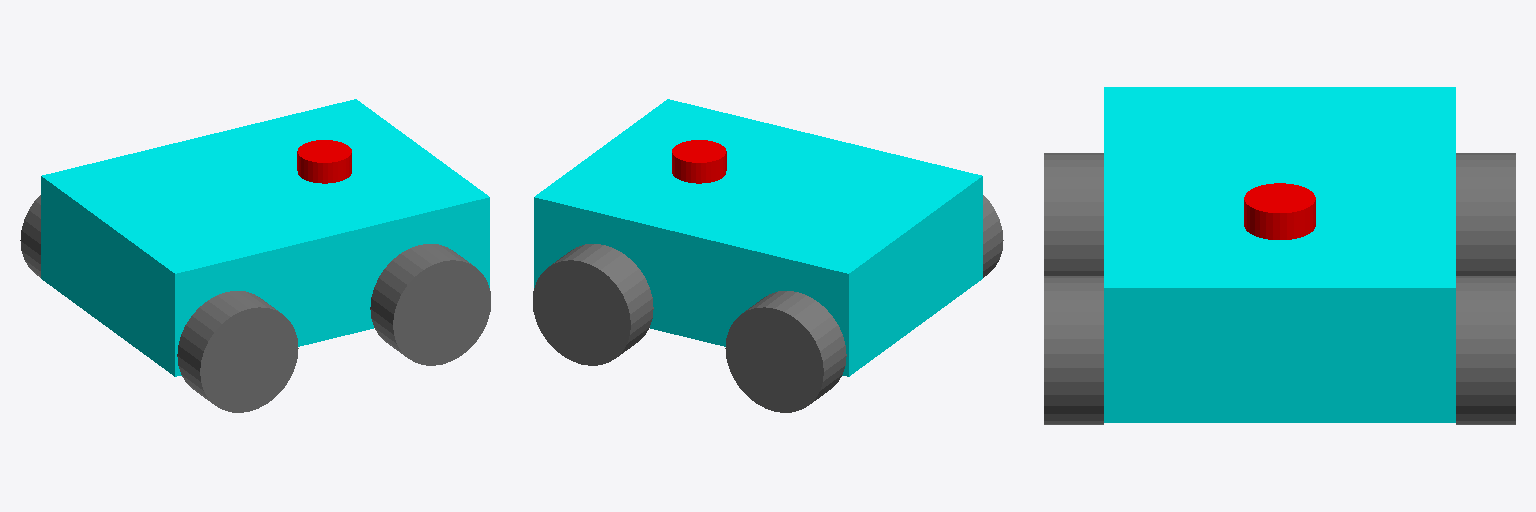
robot.urdf — RALLP_2:
<?xml version="1.0" ?>

<robot name="RALLP_2">

<!-- Robot base -->

  <link name="base_link">
    <visual>
      <origin xyz="0 0 0" rpy="0 0 0"/>
      <geometry>
        <box size="0.8 0.59 0.25"/>
      </geometry>
      <material name="Cyan">
        <color rgba="0 1.0 1.0 1.0"/>
      </material>
    </visual>
    <collision>
      <origin xyz="0 0 0" rpy="0 0 0"/>
      <geometry>
        <box size="0.8 0.59 0.25"/>
      </geometry>
    </collision>
    <inertial>
      <origin xyz="0.0 0.0 0.0" rpy="0 0 0"/>
      <mass value="45"/>
      <inertia ixx="1.53975" ixy="0" ixz="0" 
              iyy="2.634375" iyz="0" izz="3.705375"/>
    </inertial>
  </link>

  <link name="base_footprint"/>
  <joint name="base_joint" type="fixed">
    <parent link="base_link"/>
    <child link="base_footprint"/>
    <origin rpy="0 0 0" xyz="0.0 0.0 -0.200853"/>
  </joint>


  <!-- Front Right Wheel -->

  <link name="fr_link">
    <visual>
      <origin xyz="0 -0.05 0" rpy="-1.570796 0.0 0.0"/>
      <geometry>
        <cylinder length="0.1" radius="0.125"/>
      </geometry>
      <material name="Gray">
        <color rgba="0.5 0.5 0.5 1.0"/>
      </material>
    </visual>
    <collision>
      <origin xyz="0 -0.05 0" rpy="-1.570796 0.0 0.0"/>
      <geometry>
        <cylinder length="0.1" radius="0.125"/>
      </geometry>
    </collision>
    <inertial>
      <origin xyz="-0.0 -0.05 0.0" rpy="0 0 0"/>
      <mass value="1.5"/>
      <inertia ixx="0.0096875" ixy="0" ixz="0" 
              iyy="0.016875" iyz="0" izz="0.0096875"/>
    </inertial>
  </link>
  <joint name="fr_joint" type="continuous">
    <parent link="base_link"/>
    <child link="fr_link"/>
    <origin xyz="0.2205 -0.295 -0.074147" rpy="0.0 0.0 0.0"/>
    <axis xyz="0 1 0"/>
    <dynamics damping="0.0" friction="1000.0"/>
  </joint>


  <!-- Front Left Wheel -->

  <link name="fl_link">
    <visual>
      <origin xyz="0 0.05 0" rpy="1.570796327 0.0 0"/>
      <geometry>
        <cylinder length="0.1" radius="0.125"/>
      </geometry>
      <material name="Gray">
        <color rgba="0.5 0.5 0.5 1.0"/>
      </material>
    </visual>
    <collision>
      <origin xyz="0 0.05 0" rpy="1.570796327 0.0 0.0"/>
      <geometry>
        <cylinder length="0.1" radius="0.125"/>
      </geometry>
    </collision>
    <inertial>
      <origin xyz="-0.0 0.05 0.0" rpy="0 0 0"/>
      <mass value="1.5"/>
      <inertia ixx="0.0096875" ixy="0" ixz="0" 
              iyy="0.016875" iyz="0" izz="0.0096875"/>
    </inertial>
  </link>
  <joint name="fl_joint" type="continuous">
    <parent link="base_link"/>
    <child link="fl_link"/>
    <origin xyz="0.2205 0.295 -0.074147" rpy="0 0.0 0.0"/>
    <axis xyz="0 1 0"/>
    <dynamics damping="0.0" friction="1000.0"/>
  </joint>


  <!-- Rear Left Wheel -->

  <link name="drivewhl_rl_link">
    <visual>
      <origin xyz="0 0.05 0" rpy="1.570796327 -0.0 -0.0"/>
      <geometry>
        <cylinder length="0.1" radius="0.125"/>
      </geometry>
      <material name="Gray">
        <color rgba="0.5 0.5 0.5 1.0"/>
      </material>
    </visual>
    <collision>
      <origin xyz="0 0.05 0" rpy="1.570796327 0 0"/>
      <geometry>
        <cylinder length="0.1" radius="0.125"/>
      </geometry>
    </collision>
    <inertial>
      <origin xyz="0 0.05 0" rpy="0 0 0"/>
      <mass value="1.5"/>
      <inertia ixx="0.0096875" ixy="0" ixz="0" 
              iyy="0.016875" iyz="0" izz="0.0096875"/>
    </inertial>
  </link>
  <joint name="rl_joint" type="continuous">
    <parent link="base_link"/>
    <child link="drivewhl_rl_link"/>
    <origin xyz="-0.2695 0.295 -0.074147" rpy="0 0.0 0.0"/>
    <axis xyz="0 1 0"/>
    <dynamics damping="0.0" friction="1000.0"/>
  </joint>


  <!-- Rear Right Wheel -->

  <link name="rr_link">
    <visual>
      <origin xyz="0 -0.05 0" rpy="-1.570796327 0.0 0.0"/>
      <geometry>
        <cylinder length="0.1" radius="0.125"/>
      </geometry>
      <material name="Gray">
        <color rgba="0.5 0.5 0.5 1.0"/>
      </material>
    </visual>
    <collision>
      <origin xyz="0 -0.05 0" rpy="-1.570796327 0.0 0.0"/>
      <geometry>
        <cylinder length="0.1" radius="0.125"/>
      </geometry>
    </collision>
    <inertial>
      <origin xyz="-0.0 -0.05 0.0" rpy="0 0 0"/>
      <mass value="1.5"/>
      <inertia ixx="0.0096875" ixy="0" ixz="0" 
              iyy="0.016875" iyz="0" izz="0.0096875"/>
    </inertial>
  </link>
  <joint name="rr_joint" type="continuous">
    <parent link="base_link"/>
    <child link="rr_link"/>
    <origin xyz="-0.2695 -0.295 -0.074147" rpy="6.283182245 0 0"/>
    <axis xyz="0 1 0"/>
    <dynamics damping="0.0" friction="1000.0"/>
  </joint>


  <!-- Lidar_link -->

  <link name="lidar_link">
    <visual>
      <geometry>
        <cylinder length="0.05" radius="0.06"/>
      </geometry>
      <material name="Red">
        <color rgba="1.0 0.0 0.0 1"/>
      </material>
    </visual>
    <collision>
      <geometry>
        <cylinder length="0.05" radius="0.06"/>
      </geometry>
    </collision>
  </link>
  <joint name="lidar_joint" type="fixed">
    <parent link="base_link"/>
    <child link="lidar_link"/>
    <origin rpy="0 0 0" xyz="0.15 0 0.15"/>
  </joint>


  <!-- Gazebo plugin -->

  <gazebo>
    <plugin filename="gz-sim-diff-drive-system" name="gz::sim::systems::DiffDrive">
      <left_joint>fl_joint</left_joint>
      <left_joint>rl_joint</left_joint>
      <right_joint>fr_joint</right_joint>
      <right_joint>rr_joint</right_joint>
      <robotBaseFrame>base_link</robotBaseFrame>
      <wheel_separation>0.6</wheel_separation>
      <wheel_radius>0.125</wheel_radius>
      <odom_topic>odom</odom_topic>
      <frame_id>odom</frame_id>
      <child_frame_id>base_link</child_frame_id>
      <odom_publisher_frequency>100</odom_publisher_frequency>
      <tf_topic>/tf</tf_topic>
      <topic>cmd_vel</topic>
    </plugin>


    <!-- Forward command -->
    

    <plugin filename="gz-sim-triggered-publisher-system" name="gz::sim::systems::TriggeredPublisher">
      <input type="gz.msgs.Int32" topic="/keyboard/keypress">
        <match field="data">87</match>
      </input>
      <output type="gz.msgs.Twist" topic="/cmd_vel">
        linear: {x: 1}, angular: {z: 0.0}
      </output>
    </plugin>


    <!-- Backward command -->

    <plugin filename="gz-sim-triggered-publisher-system" name="gz::sim::systems::TriggeredPublisher">
      <input type="gz.msgs.Int32" topic="/keyboard/keypress">
        <match field="data">83</match>
      </input>
      <output type="gz.msgs.Twist" topic="/cmd_vel">
        linear: {x: -1}, angular: {z: 0.0}
      </output>
    </plugin>


    <!-- Turn left command -->

    <plugin filename="gz-sim-triggered-publisher-system" name="gz::sim::systems::TriggeredPublisher">
      <input type="gz.msgs.Int32" topic="/keyboard/keypress">
        <match field="data">65</match>
      </input>
      <output type="gz.msgs.Twist" topic="/cmd_vel">
        linear: {x: 0.0}, angular: {z: 1}
      </output>
    </plugin>


    <!-- Turn right command -->

    <plugin filename="gz-sim-triggered-publisher-system" name="gz::sim::systems::TriggeredPublisher">
      <input type="gz.msgs.Int32" topic="/keyboard/keypress">
        <match field="data">68</match>
      </input>
      <output type="gz.msgs.Twist" topic="/cmd_vel">
        linear: {x: 0.0}, angular: {z: -1}
      </output>
    </plugin>


    <!-- Stop command -->

    <plugin filename="gz-sim-triggered-publisher-system"
        name="gz::sim::systems::TriggeredPublisher">
     <input type="gz.msgs.Int32" topic="/keyboard/keypress">
        <match field="data">70</match>
     </input>
     <output type="gz.msgs.Twist" topic="/cmd_vel">
        linear: {x: 0.0}, angular: {z: 0.0}
     </output>
    </plugin>

    <!-- joint_states publisher -->

    <plugin filename="gz-sim-joint-state-publisher-system" name="gz::sim::systems::JointStatePublisher">
      <topic>joint_states</topic>
      <joint_name>fl_joint</joint_name>
      <joint_name>fr_joint</joint_name>
      <joint_name>rl_joint</joint_name>
      <joint_name>rr_joint</joint_name>
    </plugin> 

    <!-- Lidar plugin -->

    <plugin
      filename="gz-sim-sensors-system"
      name="gz::sim::systems::Sensors">
      <render_engine>ogre2</render_engine>
    </plugin>
    <sensor type="ray" name="lidar">
            <update_rate>1000</update_rate>
            <ray>
                <scan>
                    <horizontal>
                        <samples>4000</samples>
                        <resolution>0.01745</resolution>
                        <min_angle>-3.1415</min_angle>
                        <max_angle>3.1415</max_angle>
                    </horizontal>
                </scan>
                <range>
                    <min>0.1</min>
                    <max>12.0</max>
                    <resolution>0.01745</resolution>
                </range>
            </ray>
            <plugin name="gazebo_ros_laser" filename="libgazebo_ros_laser.so">
                <ros>
                    <namespace>/</namespace>
                    <remapping>scan:=/scan</remapping>
                </ros>
                <output>screen</output>
                <topicName>scan</topicName>
                <frameName>lidar_link</frameName>
            </plugin>
    </sensor>
  </gazebo>
  <gazebo reference="lidar_link">
        <sensor name="laser" type="gpu_lidar">
            <pose> 0 0 0 0 0 0 </pose>
            <visualize>true</visualize>
            <update_rate>1000</update_rate>
            <lidar>
                <scan>
                    <horizontal>
                        <samples>4000</samples>
                        <min_angle>-3.1415</min_angle>
                        <max_angle>3.1415</max_angle>
                    </horizontal>
                </scan>
                <range>
                    <min>0.1</min>
                    <max>12</max>
                </range>
            </lidar>
            <topic>scan</topic>
            <gz_frame_id>lidar_link</gz_frame_id>
        </sensor>
        
  </gazebo>-

  <gazebo reference="fl_link">
     <mu1 value="1.2"/>
     <mu2 value="1.2"/>
  </gazebo>

  <gazebo reference="rl_link">
     <mu1 value="1.2"/>
     <mu2 value="1.2"/>
  </gazebo>

  <gazebo reference="rr_link">
     <mu1 value="1.2"/>
     <mu2 value="1.2"/>
  </gazebo>

  <gazebo reference="fr_link">
     <mu1 value="1.2"/>
     <mu2 value="1.2"/>
  </gazebo>
  
  <!-- IMU Plugin-->

  <plugin
        filename="gz-sim-physics-system"
        name="gz::sim::systems::Physics">
  </plugin>
  <plugin
        filename="gz-sim-scene-broadcaster-system"
        name="gz::sim::systems::SceneBroadcaster">
  </plugin>


  <plugin filename="gz-sim-imu-system"
        name="gz::sim::systems::Imu">
  </plugin>

  <sensor name="imu_sensor" type="imu">
    <always_on>1</always_on>
    <update_rate>1</update_rate>
    <visualize>true</visualize>
    <topic>imu</topic>
  </sensor>



</robot>

--- What the picture shows (computed from the rendered views, not written in the file) ---
3 views of the same robot in one strip: view 1: azimuth 30°, elevation 25°; view 2: azimuth 150°, elevation 25°; view 3: azimuth 270°, elevation 25° (orthographic).
Model RALLP_2 with 7 links and 6 joints (4 continuous, 2 fixed), rooted at base_link, posed every joint at zero.
Visible links, largest first — view 1: base_link, rr_link, fr_link, lidar_link, drivewhl_rl_link; view 2: base_link, drivewhl_rl_link, fl_link, lidar_link, rr_link; view 3: base_link, fr_link, fl_link, drivewhl_rl_link, rr_link, lidar_link.
Link boxes in pixels (<box>): base_link: <box>41,99,489,376</box>; rr_link: <box>177,291,298,412</box>; fr_link: <box>370,244,490,365</box>; lidar_link: <box>297,140,351,183</box>; drivewhl_rl_link: <box>20,195,40,277</box>; base_link: <box>534,99,982,376</box>; drivewhl_rl_link: <box>725,291,846,412</box>; fl_link: <box>533,244,653,365</box>; lidar_link: <box>672,140,726,183</box>; rr_link: <box>983,195,1003,277</box>; base_link: <box>1104,87,1455,422</box>; fr_link: <box>1044,276,1103,424</box>; fl_link: <box>1456,276,1515,424</box>; drivewhl_rl_link: <box>1456,153,1515,275</box>; rr_link: <box>1044,153,1103,275</box>; lidar_link: <box>1244,183,1315,239</box>.
Bounding box of the posed robot: 0.8 × 0.79 × 0.3741 m (x, y, z).
Geometry: primitives only (box / cylinder / sphere), no mesh files.
